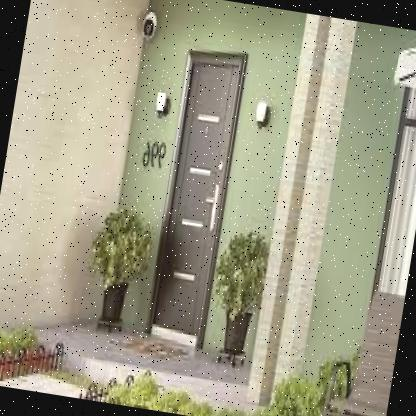door: (138, 42, 253, 355)
